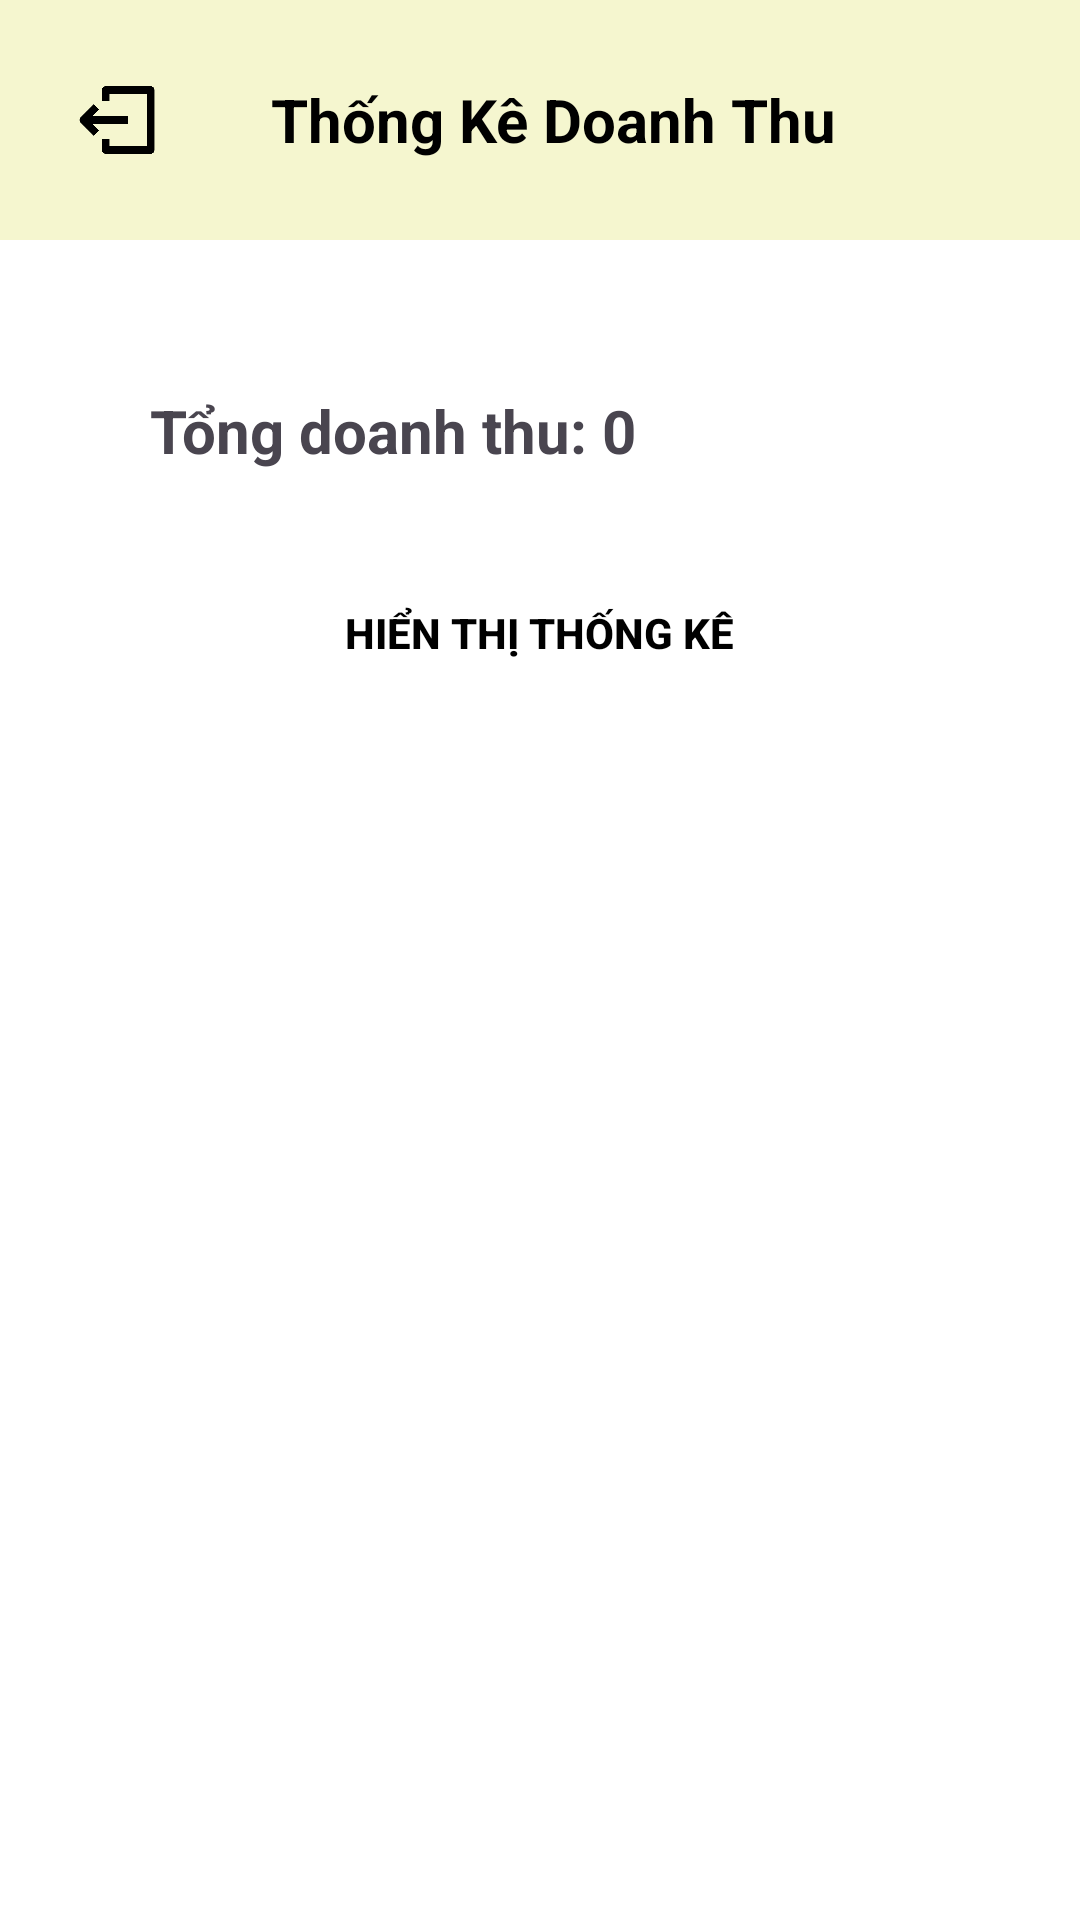

Screen size 1080w x 1920h. Icon name, then its box in pixels as bbox=(x1, y1, x2, y2):
imgexit: bbox=(79, 86, 155, 154)
